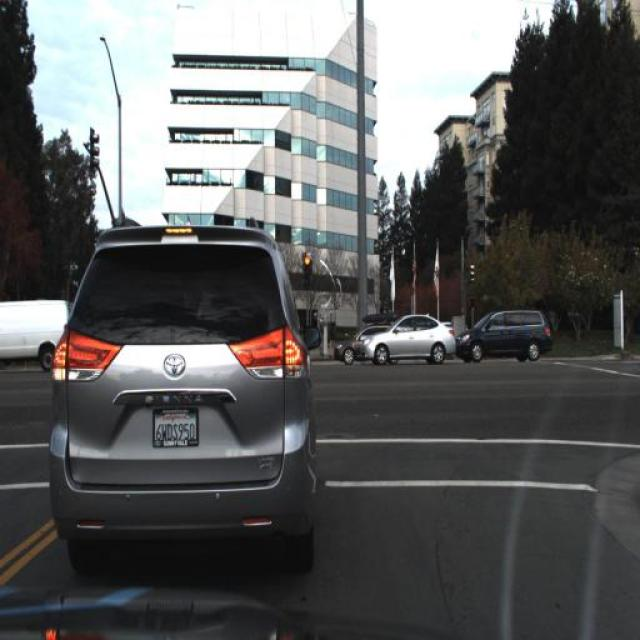car: (46, 213, 324, 574), (453, 306, 553, 366), (0, 299, 76, 371), (364, 314, 455, 364), (333, 322, 402, 366)
trafficLight-RedLeft: (300, 248, 312, 290)
